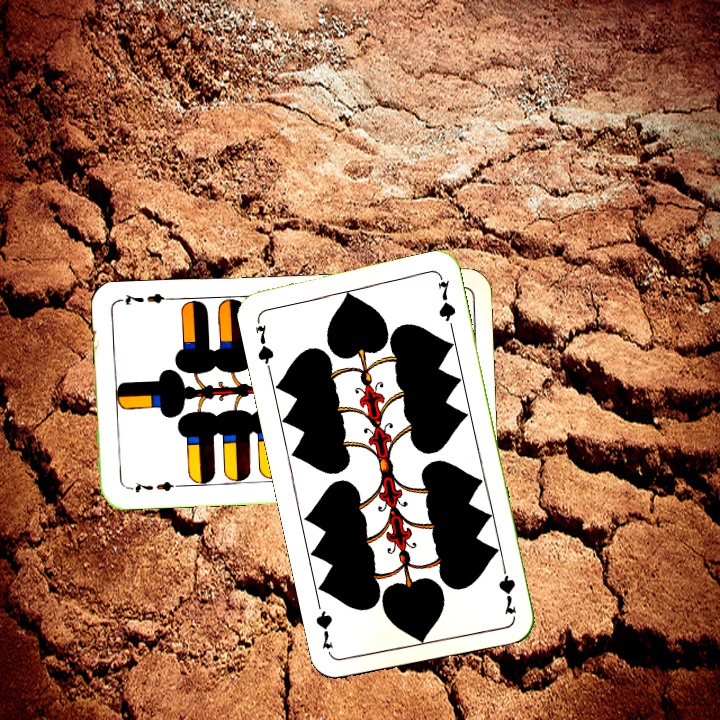E7: (123, 477, 182, 496)
G7: (494, 558, 519, 617), (251, 321, 277, 372)
